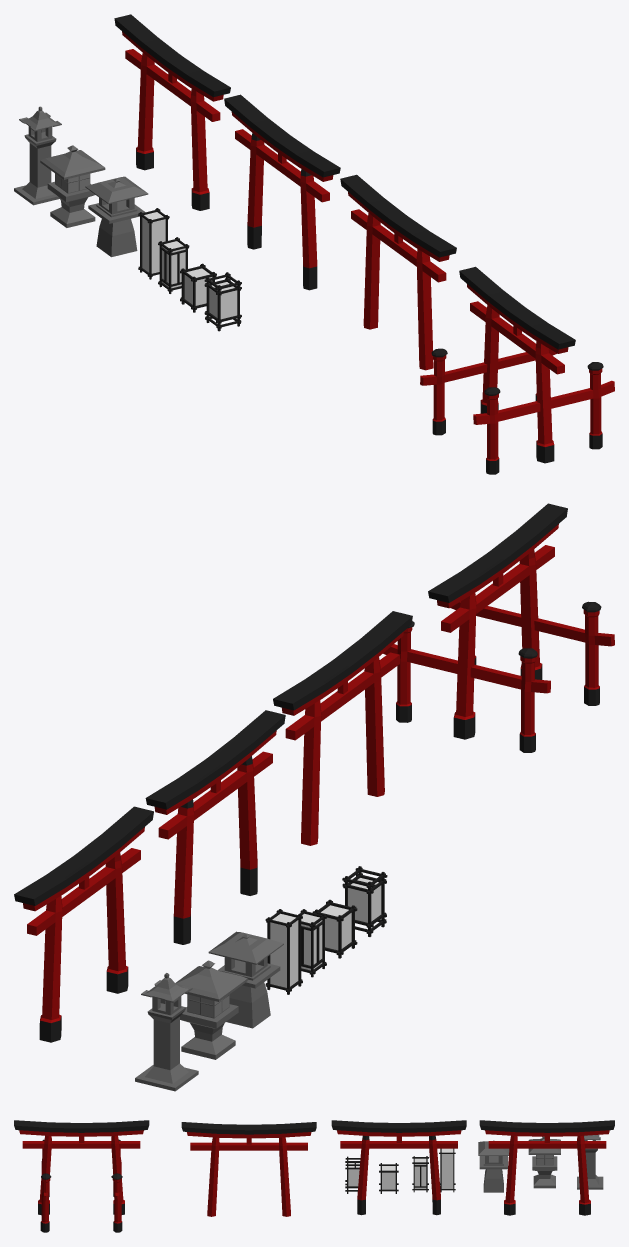
Rendered from cosasjapon.fbx.
3 renders of one model, top to bottom at view 1: azimuth 30°, elevation 25°; view 2: azimuth 150°, elevation 25°; view 3: azimuth 270°, elevation 25°, orthographic. The views are drawn at different scales.
Visible parts, largest first — view 1: Shrine_Gate_4, Shrine_Gate_1, Shrine_Gate_2, Shrine_Gate_3, Shrine_Statue_3, Shrine_Statue_2, Shrine_Statue_1, Shrine_Lamp_4, Shrine_Lamp_1, Shrine_Lamp_2, Shrine_Lamp_3; view 2: Shrine_Gate_4, Shrine_Gate_1, Shrine_Gate_2, Shrine_Gate_3, Shrine_Statue_2, Shrine_Statue_3, Shrine_Statue_1, Shrine_Lamp_1, Shrine_Lamp_4, Shrine_Lamp_3, Shrine_Lamp_2; view 3: Shrine_Gate_4, Shrine_Gate_1, Shrine_Gate_3, Shrine_Gate_2, Shrine_Statue_3, Shrine_Statue_2, Shrine_Lamp_1, Shrine_Statue_1, Shrine_Lamp_2, Shrine_Lamp_3, Shrine_Lamp_4.
Part boxes in pixels (left/top/right/bottom): Shrine_Gate_4: left=420, top=266, right=614, bottom=474; Shrine_Gate_1: left=114, top=14, right=230, bottom=210; Shrine_Gate_2: left=224, top=94, right=340, bottom=290; Shrine_Gate_3: left=340, top=174, right=456, bottom=370; Shrine_Statue_3: left=85, top=176, right=148, bottom=257; Shrine_Statue_2: left=40, top=145, right=105, bottom=227; Shrine_Statue_1: left=14, top=106, right=61, bottom=205; Shrine_Lamp_4: left=204, top=272, right=241, bottom=331; Shrine_Lamp_1: left=138, top=208, right=169, bottom=279; Shrine_Lamp_2: left=158, top=237, right=189, bottom=293; Shrine_Lamp_3: left=180, top=263, right=216, bottom=312; Shrine_Gate_4: left=383, top=503, right=614, bottom=752; Shrine_Gate_1: left=14, top=806, right=153, bottom=1042; Shrine_Gate_2: left=145, top=710, right=285, bottom=944; Shrine_Gate_3: left=273, top=611, right=412, bottom=845; Shrine_Statue_2: left=175, top=960, right=247, bottom=1059; Shrine_Statue_3: left=208, top=931, right=283, bottom=1028; Shrine_Statue_1: left=135, top=973, right=198, bottom=1091; Shrine_Lamp_1: left=265, top=909, right=302, bottom=994; Shrine_Lamp_4: left=342, top=866, right=387, bottom=936; Shrine_Lamp_3: left=312, top=899, right=357, bottom=958; Shrine_Lamp_2: left=300, top=909, right=326, bottom=977; Shrine_Gate_4: left=14, top=1120, right=149, bottom=1232; Shrine_Gate_1: left=479, top=1120, right=614, bottom=1215; Shrine_Gate_3: left=181, top=1122, right=316, bottom=1216; Shrine_Gate_2: left=331, top=1120, right=466, bottom=1215; Shrine_Statue_3: left=478, top=1140, right=509, bottom=1192; Shrine_Statue_2: left=528, top=1136, right=560, bottom=1188; Shrine_Lamp_1: left=439, top=1148, right=455, bottom=1192; Shrine_Statue_1: left=577, top=1134, right=603, bottom=1189; Shrine_Lamp_2: left=412, top=1156, right=428, bottom=1192; Shrine_Lamp_3: left=379, top=1163, right=398, bottom=1193; Shrine_Lamp_4: left=345, top=1156, right=360, bottom=1193.
Bounding box in the file's own units: 744 × 534 × 2971.
Materials: 2 (1 with a texture image).
